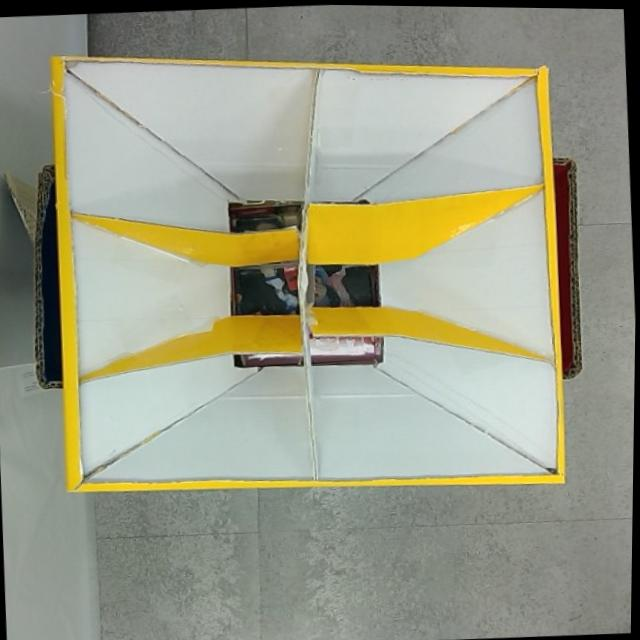box: (18, 27, 596, 506)
